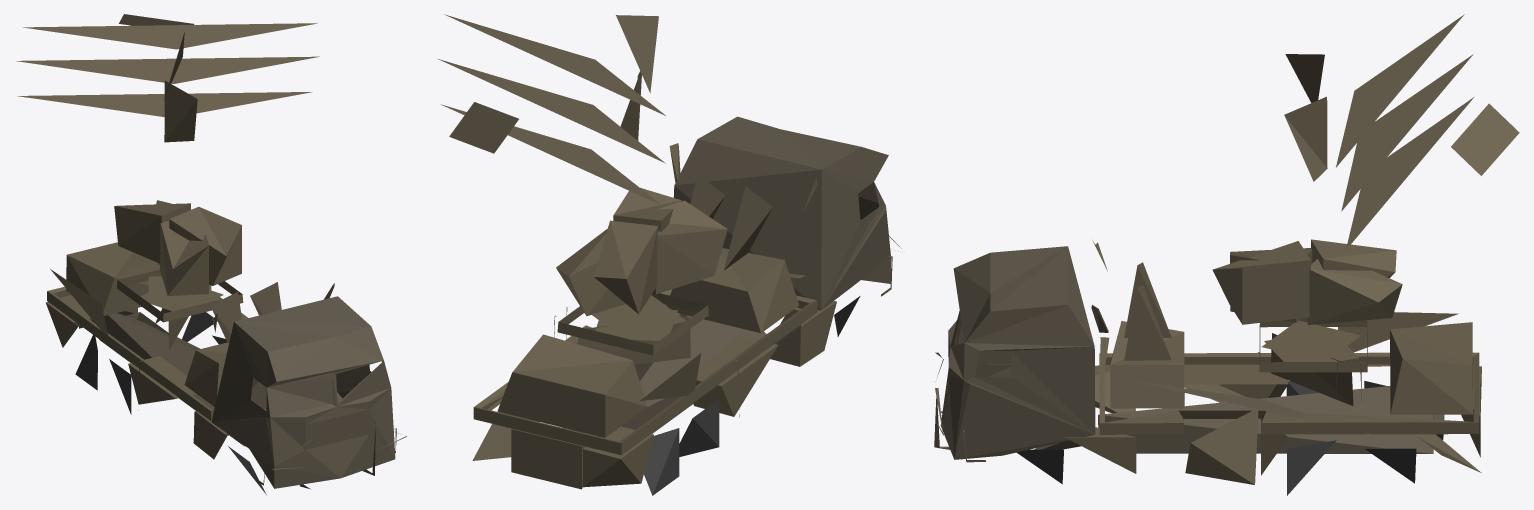
Rendered from radar-truck.lod2.glb.
The picture shows the model from 3 angles, left to right: view 1: azimuth 30°, elevation 25°; view 2: azimuth 150°, elevation 25°; view 3: azimuth 270°, elevation 25°; orthographic projection. The views are drawn at different scales.
Visible parts, largest first — view 1: Object_2; view 2: Object_2; view 3: Object_2.
Boxes of the visible parts, box(x1,y1,x2,y2) form: Object_2: box(16, 14, 406, 494); Object_2: box(438, 14, 901, 495); Object_2: box(934, 14, 1519, 495).
Size of the model in its own units: 5.67 by 7.73 by 9.93.
